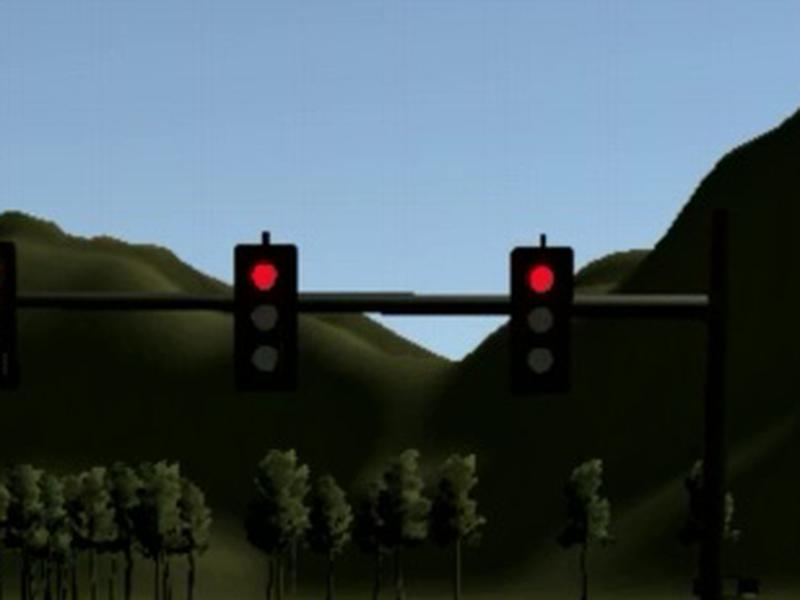Red: (509, 247, 575, 395), (232, 244, 297, 389)
